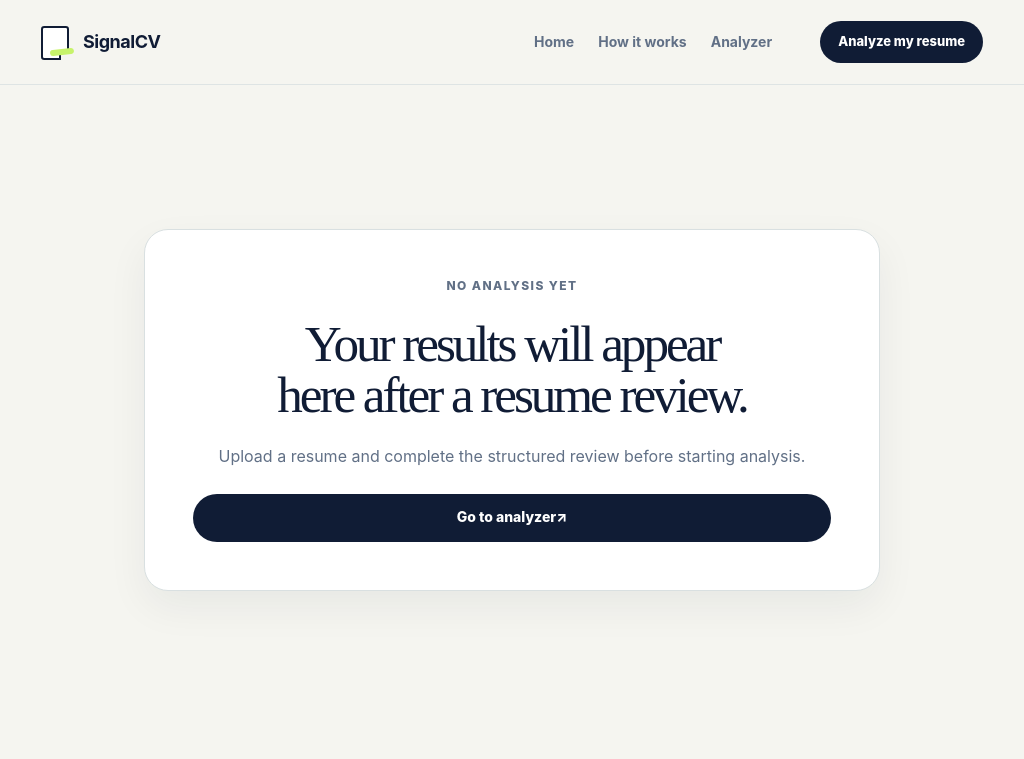
Test: Phase 4 analysis and results workflow › renders a meaningful no-analysis state and supports back navigation
The image size is (1024, 759).
Expected: the heading "Your results will appear here after a resume review." is shown, x1=277 y1=315 x2=747 y2=423
What coordinates should you click on to do the following:
click the link "Go to analyzer ↗"
I would click on:
 (512, 518)
Its box is x1=193 y1=494 x2=831 y2=542.
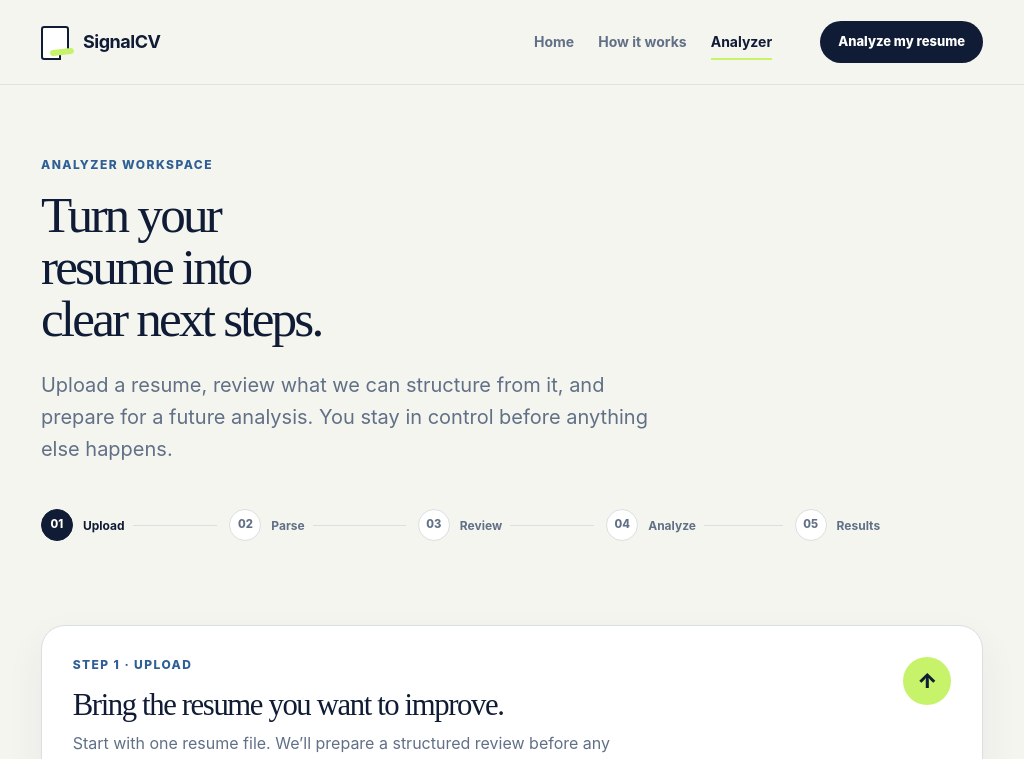
Result: the heading "Turn your resume into clear next steps." is shown at x1=41 y1=186 x2=322 y2=347
